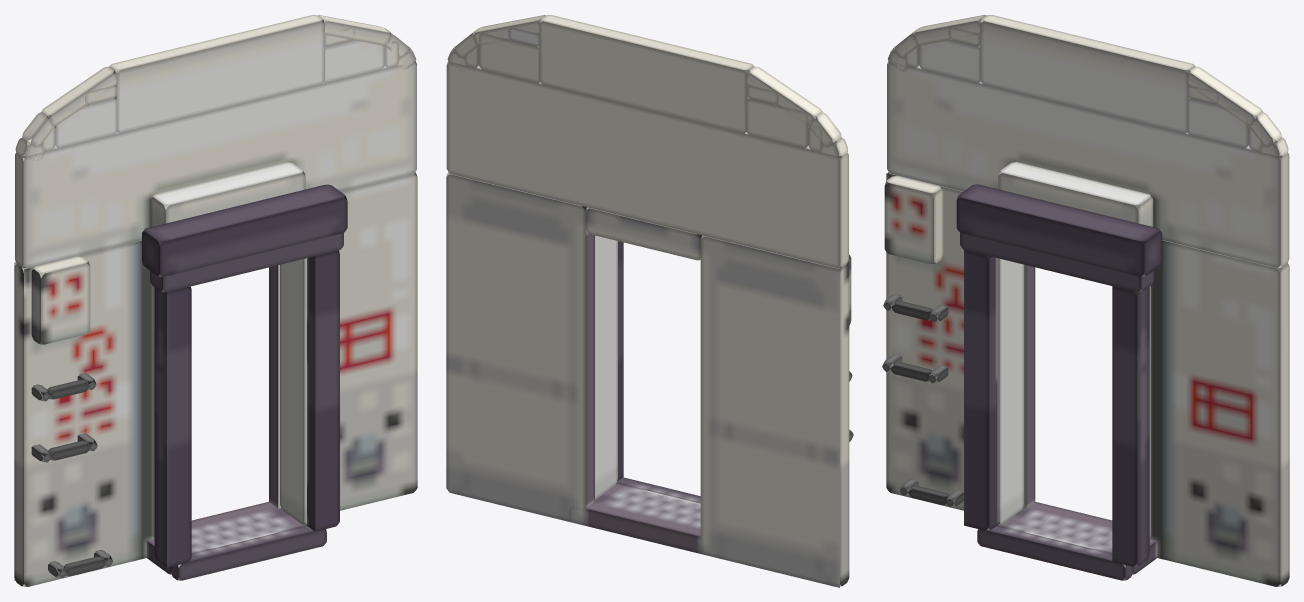
File: end_face_original_25g_1.obj
3 renders of one model, left to right at view 1: azimuth 30°, elevation 25°; view 2: azimuth 150°, elevation 25°; view 3: azimuth 330°, elevation 25°, orthographic.
Parts seen in each view (by area): view 1: cube; view 2: cube; view 3: cube.
Part boxes in pixels (x1=…): cube: x1=14, y1=15, x2=417, y2=586; cube: x1=446, y1=15, x2=853, y2=587; cube: x1=882, y1=15, x2=1289, y2=586.
Bounding box in the file's own units: 3 × 3.58 × 0.5594.
